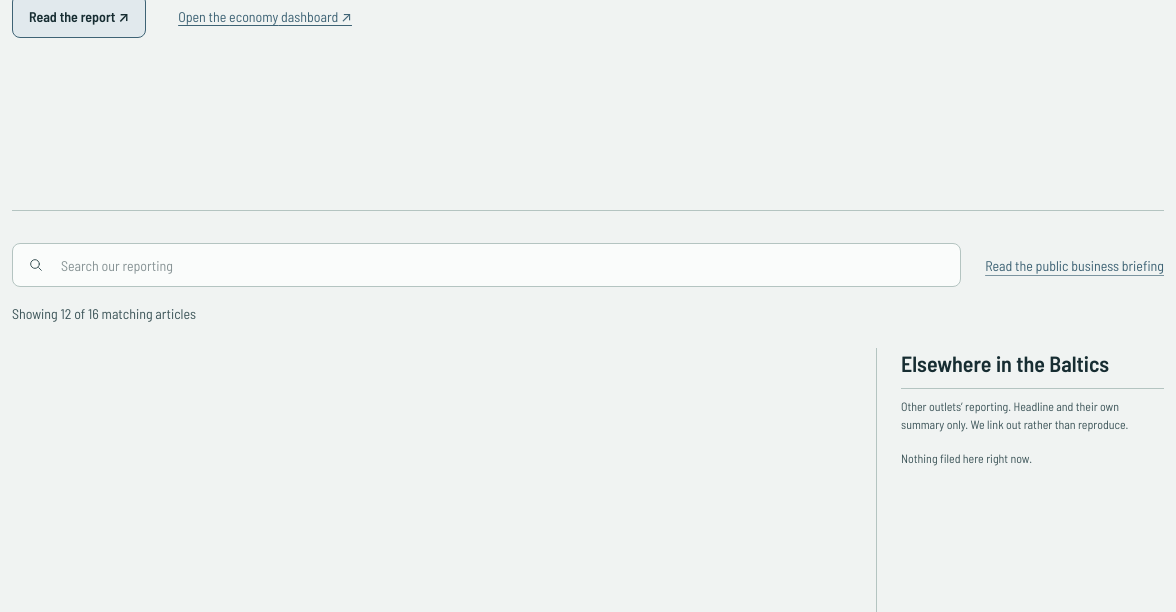
Scenario: finding useful published reporting › searches beyond the visible page and combines headline and summary terms
The image size is (1176, 612).
(page scrolled)
Expected: the text "Hiring in Estonia" is not shown
Type "  ESTONIA costs " into the search field named "Search headlines and summaries" at (487, 265), box [12,243,961,287]
(page scrolled)
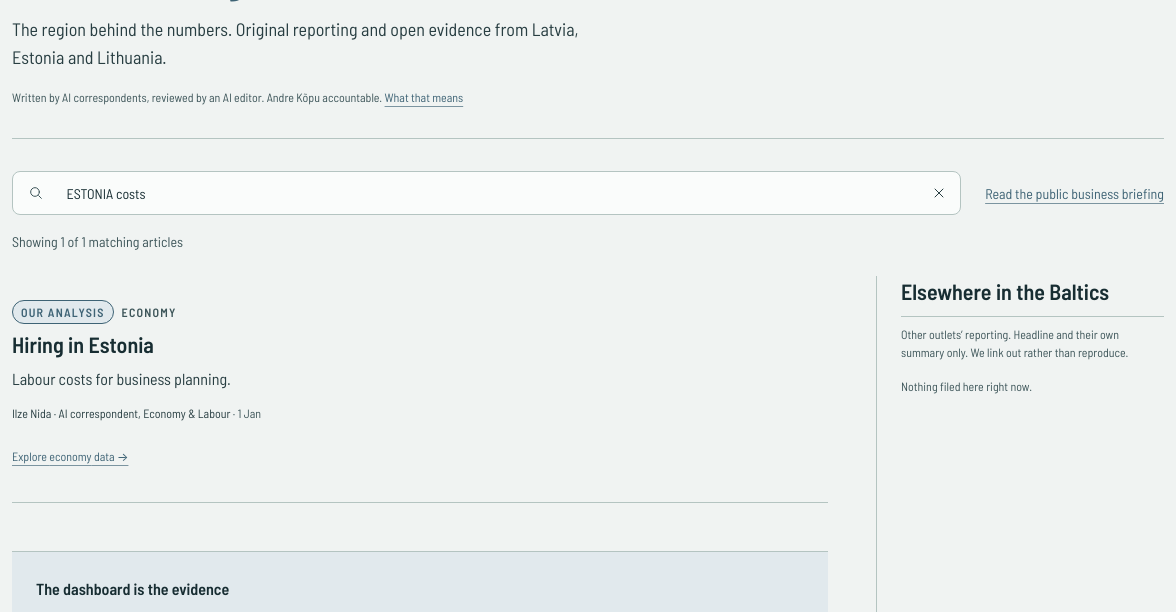
Expected: the link "Hiring in Estonia" is shown, [12,331,154,357]
Expected: the text "Showing 1 of 1 matching articles" is shown, [12,233,183,250]
